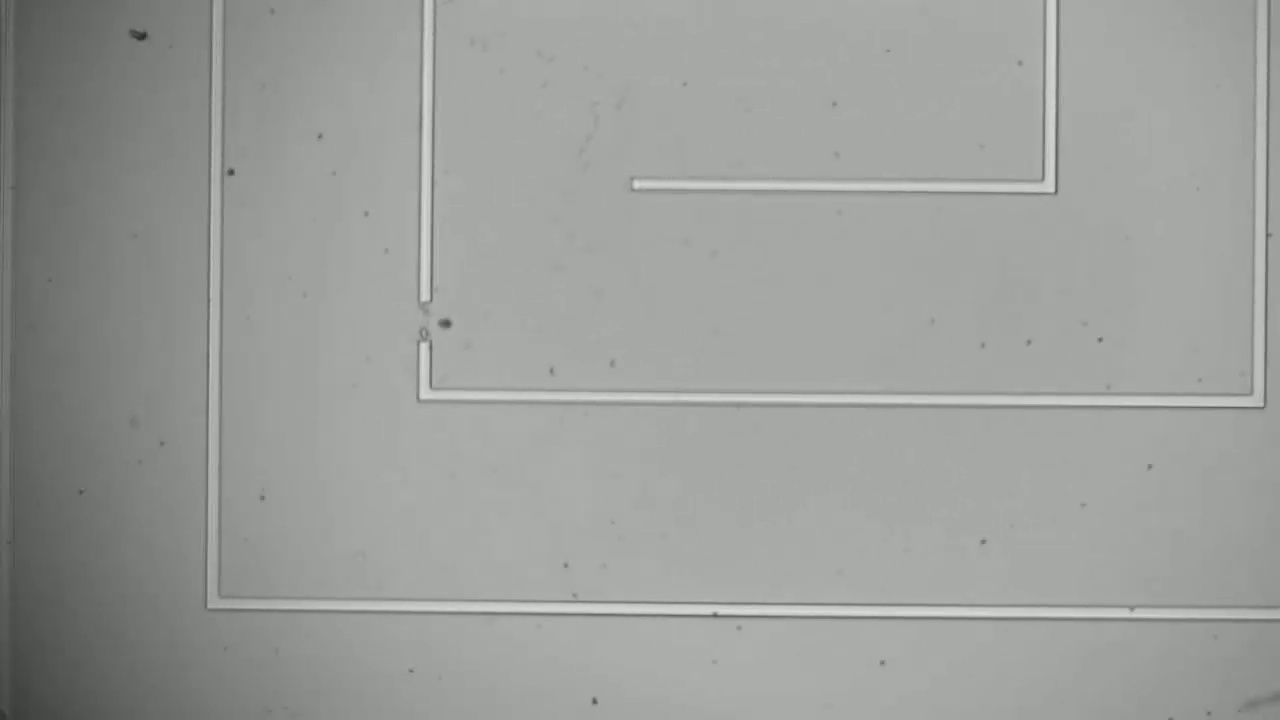open: (401, 275, 441, 362)
